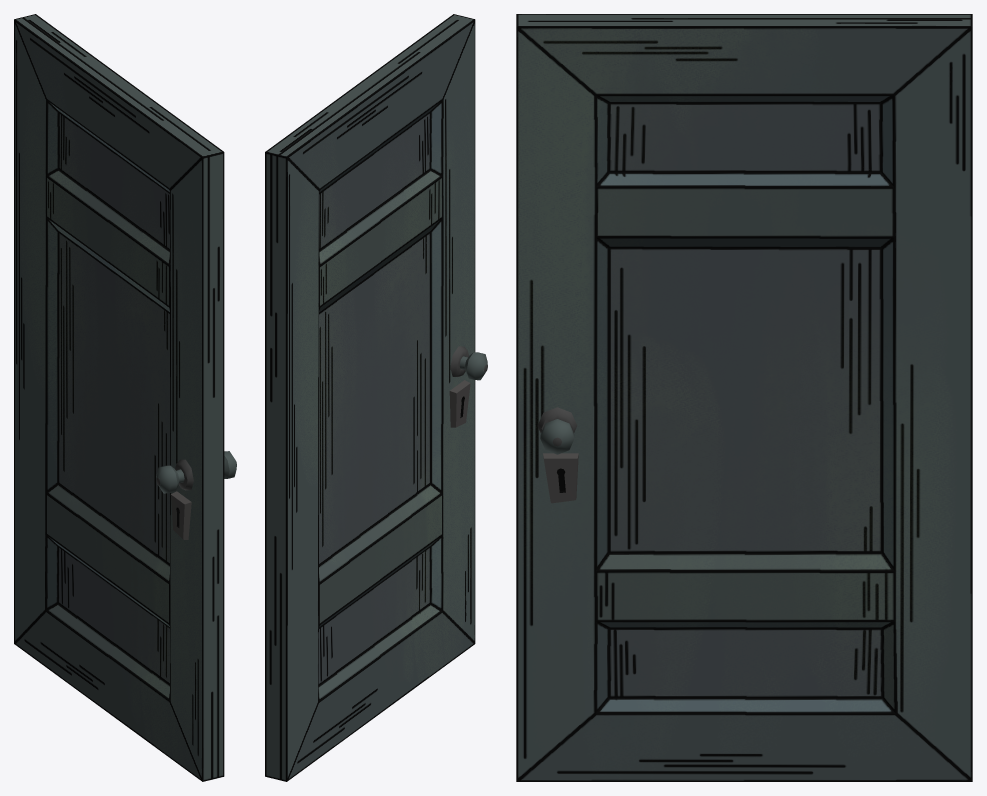
The model's file is door with lock changed lock hole .fbx.
The picture shows the model from 3 angles, left to right: view 1: azimuth 30°, elevation 25°; view 2: azimuth 150°, elevation 25°; view 3: azimuth 270°, elevation 25°; orthographic projection. The views are drawn at different scales.
Parts seen in each view (by area): view 1: door with lock; view 2: door with lock; view 3: door with lock.
Part boxes in pixels (<box>): door with lock: <box>14,14,236,781</box>; door with lock: <box>265,14,487,781</box>; door with lock: <box>516,14,972,781</box>.
Size of the model in its own units: 0.3944 by 3.07 by 1.68.
2 materials, 1 textured.
